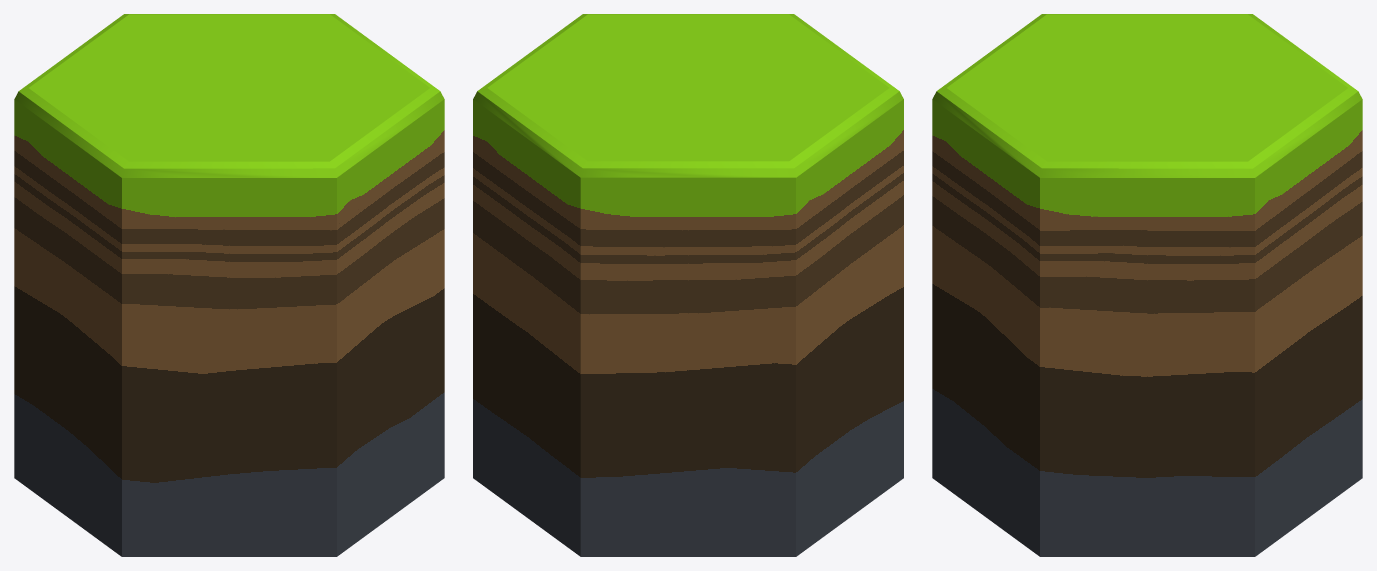
The model's file is HexTileFlat_Grass_v01.glb.
3 renders of one model, left to right at view 1: azimuth 30°, elevation 25°; view 2: azimuth 150°, elevation 25°; view 3: azimuth 270°, elevation 25°, orthographic.
Parts seen in each view (by area): view 1: SM_Tile_Hex_Flat_04; view 2: SM_Tile_Hex_Flat_04; view 3: SM_Tile_Hex_Flat_04.
Part boxes in pixels (<box>): SM_Tile_Hex_Flat_04: <box>14,14,444,556</box>; SM_Tile_Hex_Flat_04: <box>473,14,903,556</box>; SM_Tile_Hex_Flat_04: <box>932,14,1362,556</box>.
Bounding box in the file's own units: 1.73 × 2 × 2.
1 material, 1 textured.
